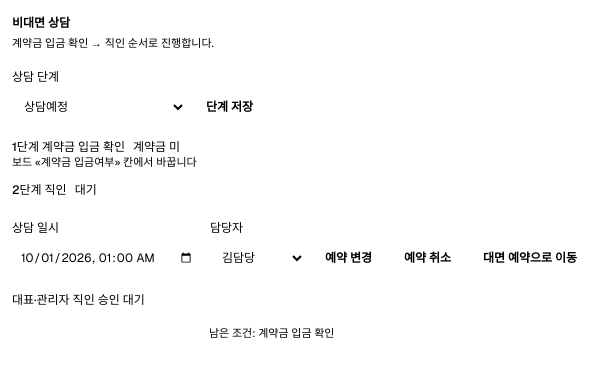
Test case: ConsultationPanel › 저장 성공 뒤 추가 버튼 없이 바로 갱신된다
Select "상담중" in the dropdown named "상담 단계" at [99, 107], box [12,89,186,125]
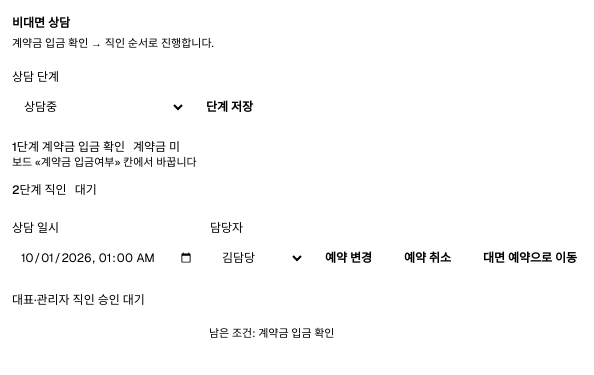
Click the button "단계 저장" at [230, 107], box [194,89,265,125]
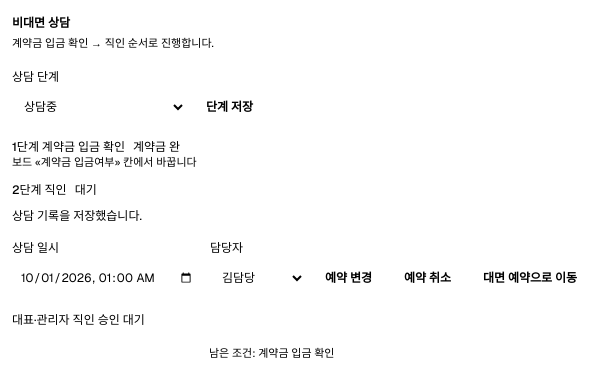
Check: the element named "계약 확인 2단계" shows "계약금 완", box [133,139,180,155]
Check: the text "상담 기록을 저장했습니다." is shown, box [12,208,142,224]
